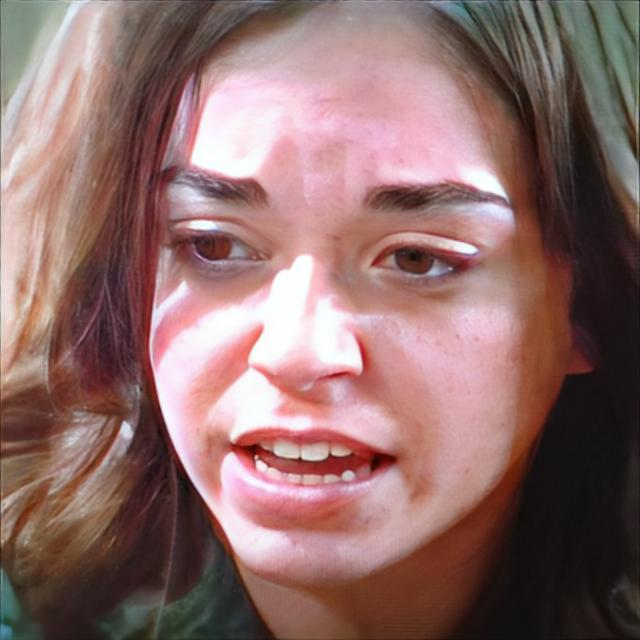sad: (137, 0, 564, 597)
